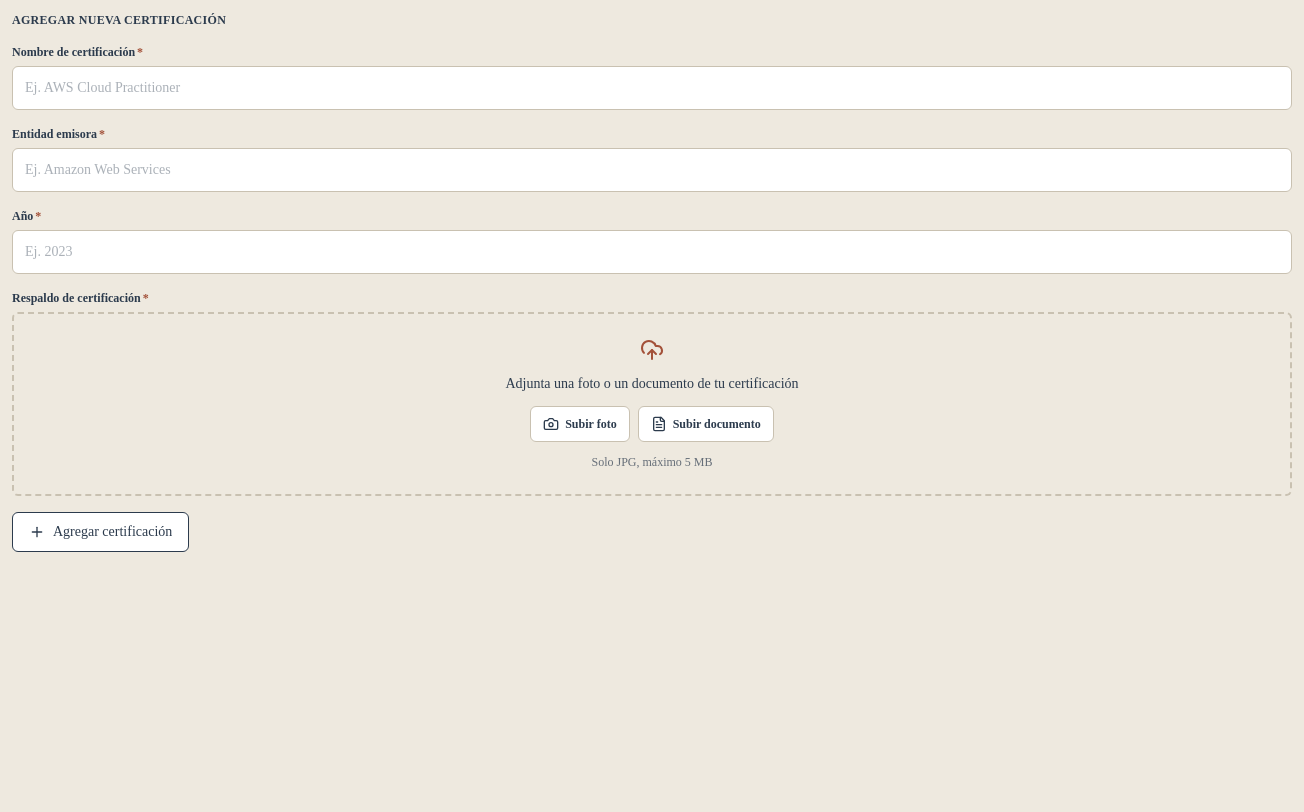
Scenario: FormularioCertificaciones · validación en pantalla (T8.3) › con el formulario vacío marca los 4 campos y no envía nada
Click the button "Agregar certificación" at [101, 532], box top-left (12, 512), bottom-right (189, 552)
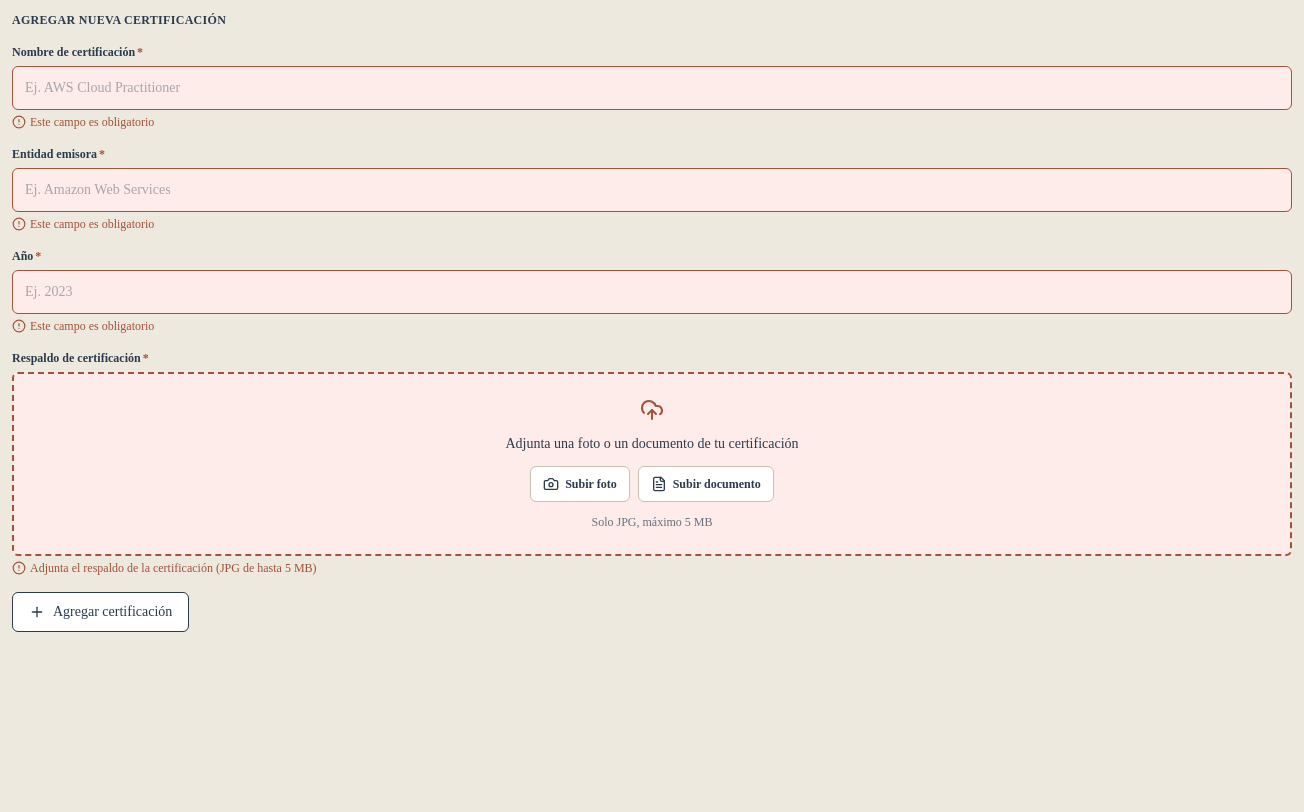
Result: the text "Este campo es obligatorio" is shown 3 times at top-left (12, 115), bottom-right (154, 129); top-left (12, 217), bottom-right (154, 231); top-left (12, 319), bottom-right (154, 333)
